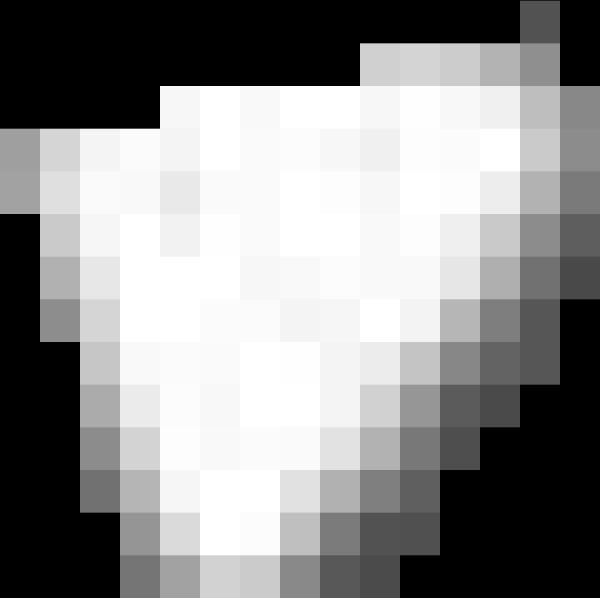tumor_good_chance: (0, 1, 600, 598)
